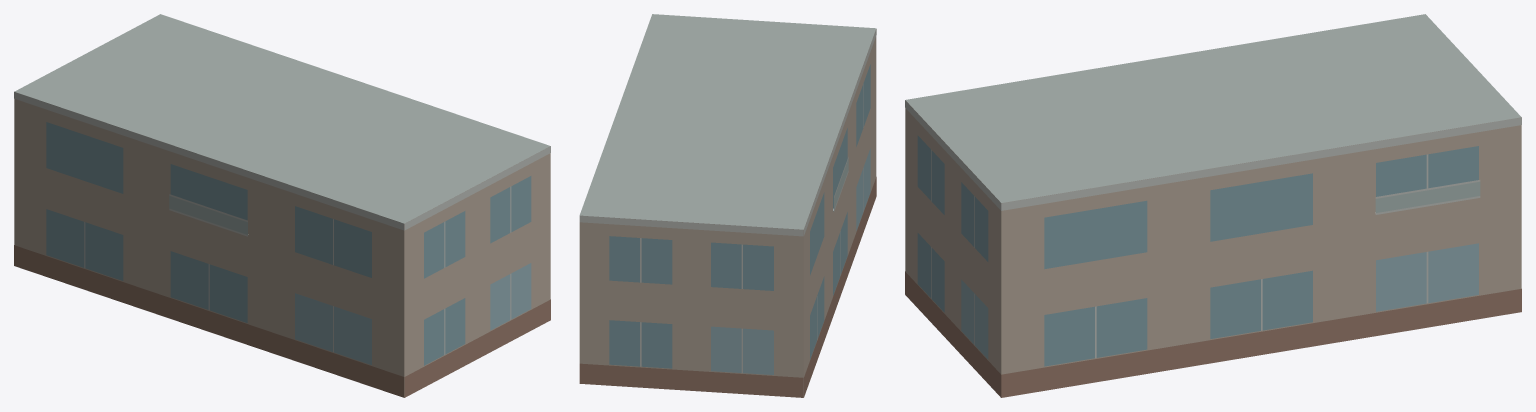
File: survey-upis-32698474.glb
3 views of the same model, side by side, from view 1: azimuth 30°, elevation 25°; view 2: azimuth 150°, elevation 25°; view 3: azimuth 270°, elevation 25° (orthographic). The views are drawn at different scales.
Visible parts, largest first — view 1: survey-upis-32698474.tmp; view 2: survey-upis-32698474.tmp; view 3: survey-upis-32698474.tmp.
Boxes of the visible parts, x1,y1,x2,y2 form: survey-upis-32698474.tmp: (14, 14, 550, 397); survey-upis-32698474.tmp: (579, 14, 876, 397); survey-upis-32698474.tmp: (905, 14, 1521, 397).
Bounding box in the file's own units: 12.72 × 6.1 × 17.52.
